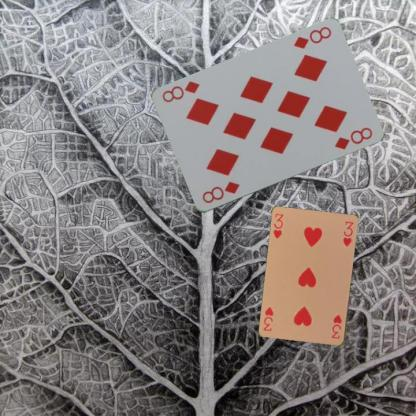3h: (270, 211, 285, 240), (329, 312, 343, 340)
8d: (291, 24, 332, 51), (199, 179, 241, 205)
